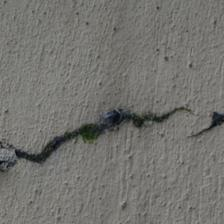Crack: (54, 77, 137, 147), (142, 16, 207, 46)
